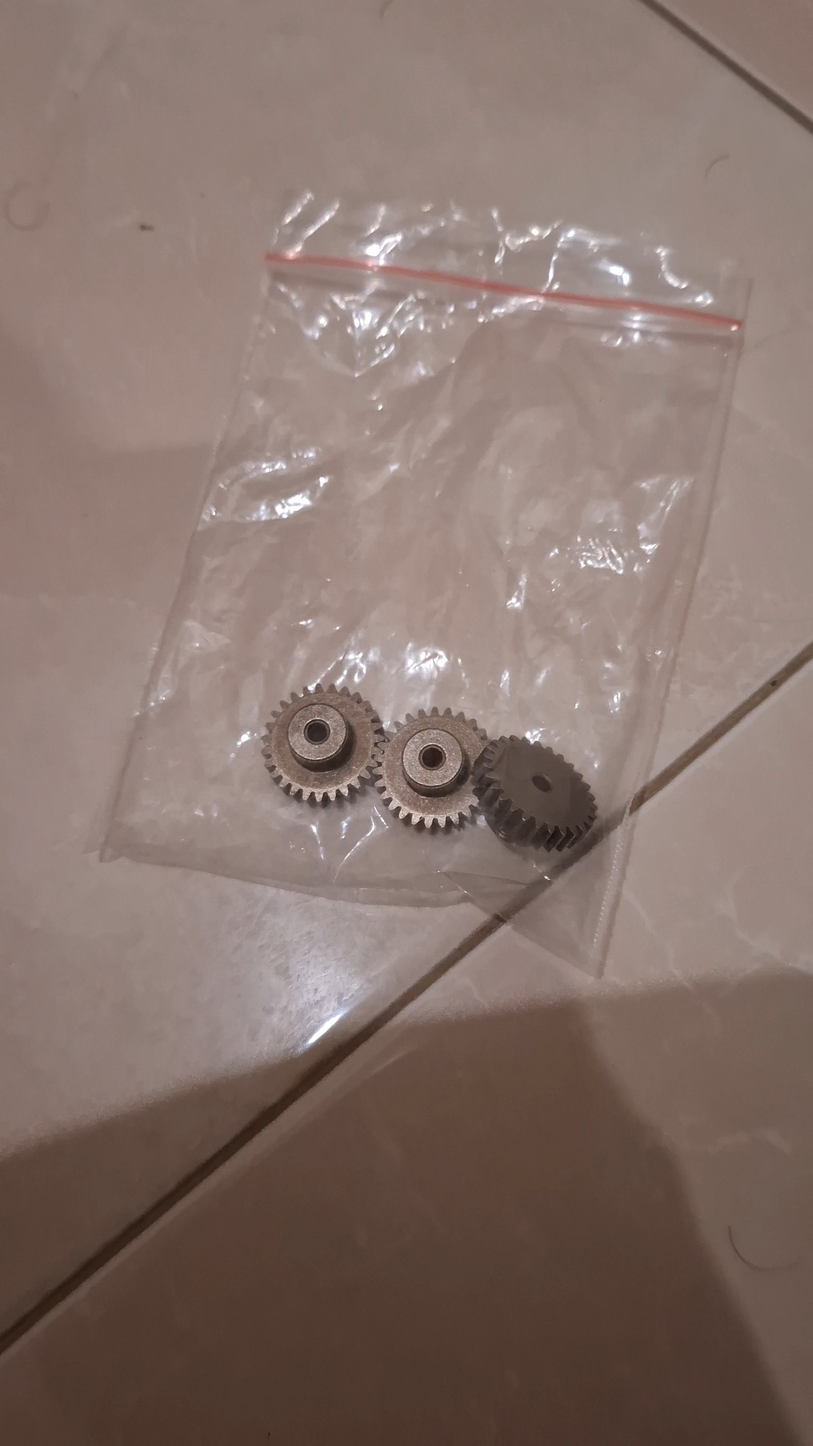spur gear: (258, 683, 389, 807), (466, 730, 597, 854), (371, 707, 493, 831)
